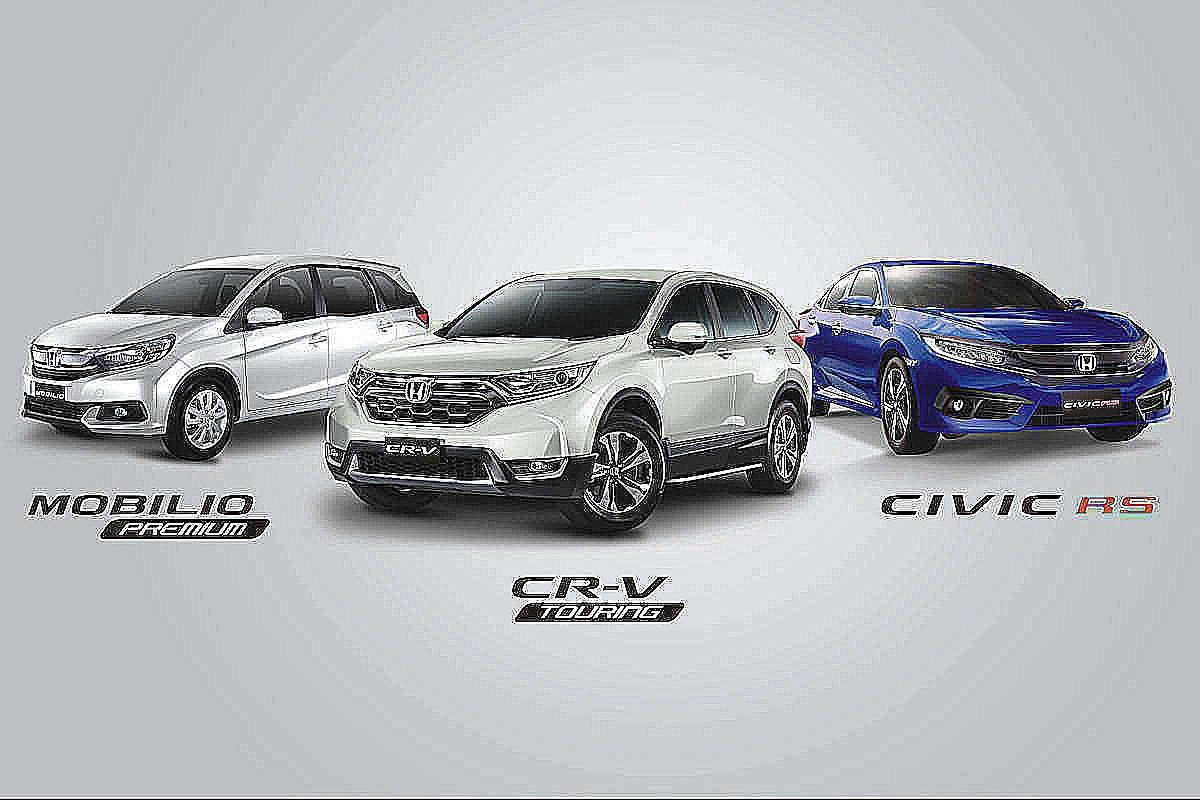Car hood: (353, 329, 629, 380), (891, 301, 1149, 347), (29, 307, 225, 353)
Driver-s door - -F-R-: (836, 262, 882, 409)
Fender - -F-L-: (580, 329, 668, 483), (166, 312, 249, 426)
Fender - -F-R-: (875, 303, 932, 417)
Fender - -R-L-: (781, 335, 810, 415)
Front bumper: (323, 383, 599, 510), (906, 359, 1178, 444), (16, 358, 193, 443)
Headlight - -L-: (482, 357, 600, 409), (90, 332, 179, 375), (1118, 329, 1165, 378)
Headlight - -R-: (917, 328, 1013, 373), (340, 358, 379, 399)
Passenger-s door - -F-L-: (247, 258, 326, 414), (668, 276, 733, 460)
Passenger-s door - -R-L-: (720, 275, 784, 459), (316, 258, 395, 405)
Passenger-s door - -R-R-: (810, 266, 855, 398)
Rear light - -L-: (399, 292, 438, 335), (780, 321, 815, 361)
Side bumper - -L-: (653, 425, 776, 491), (227, 392, 348, 429)
Side bumper - -R-: (810, 369, 886, 424)
Side mirror - -L-: (652, 317, 715, 361), (236, 303, 287, 340), (1056, 286, 1097, 318)
Side mirror - -R-: (837, 290, 879, 326)
